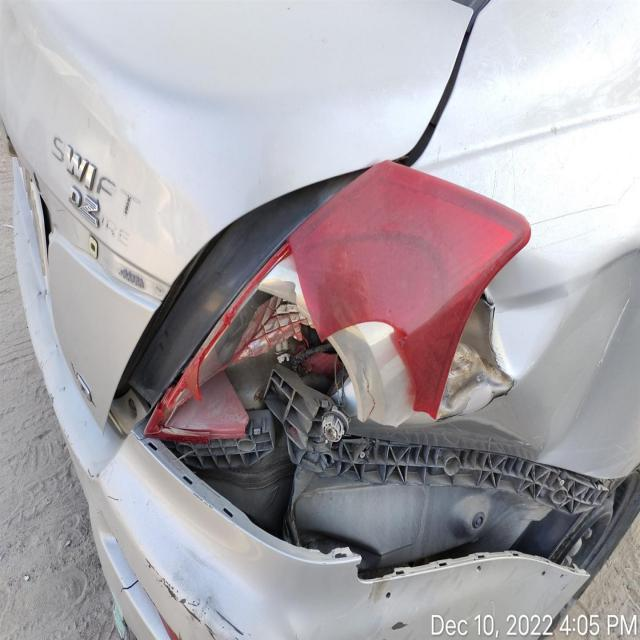damage: (150, 237, 447, 449), (203, 435, 602, 561), (449, 241, 640, 436), (148, 564, 235, 634)
